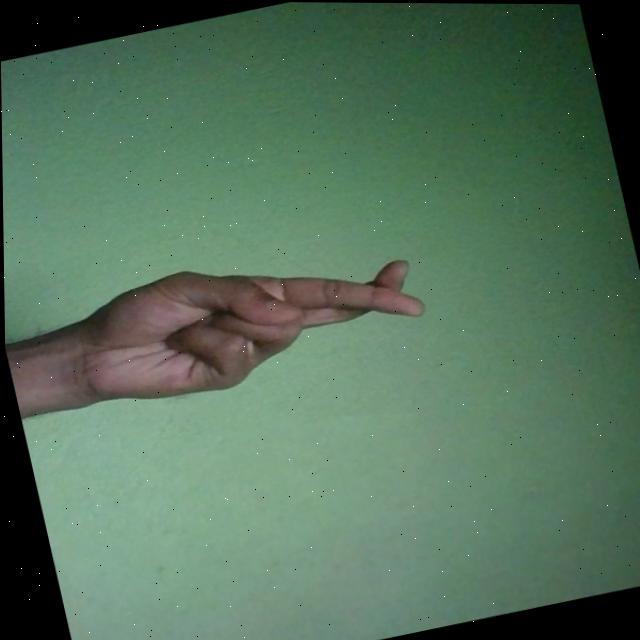Good Luck: (53, 223, 434, 420)
